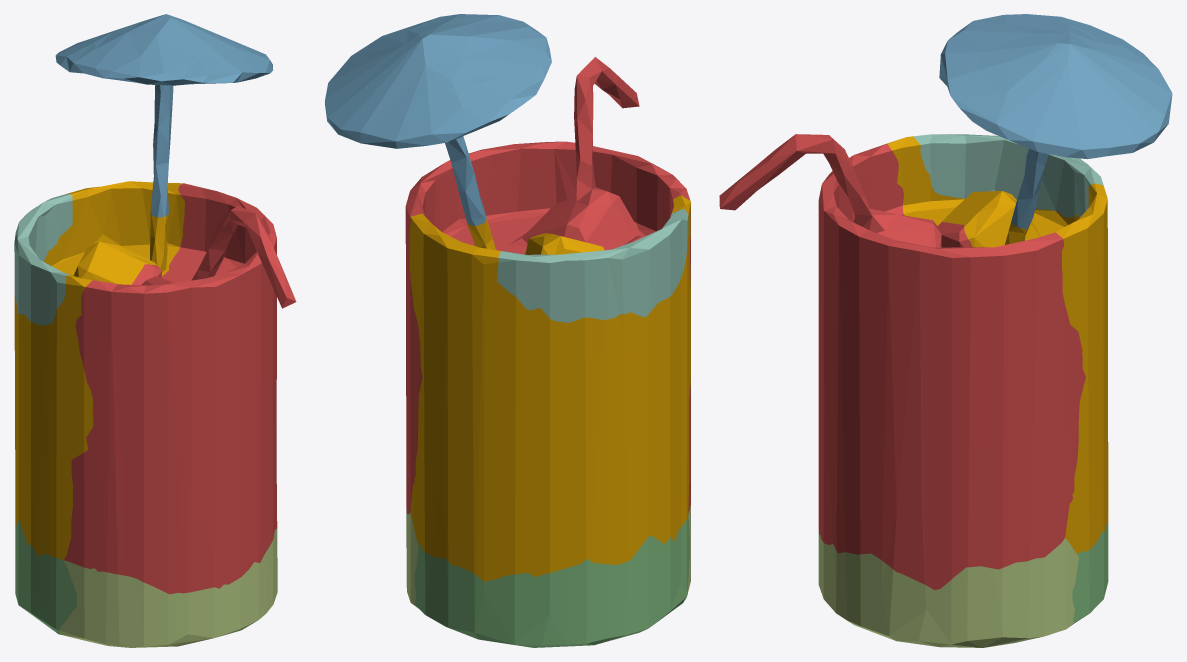
The model's file is fractured_3_6pcs.glb.
3 renders of one model, left to right at view 1: azimuth 30°, elevation 25°; view 2: azimuth 150°, elevation 25°; view 3: azimuth 270°, elevation 25°, orthographic. The views are drawn at different scales.
Parts seen in each view (by area): view 1: piece_1.obj, piece_0.obj, piece_5.obj, piece_2.obj, piece_4.obj, piece_3.obj; view 2: piece_0.obj, piece_1.obj, piece_2.obj, piece_3.obj, piece_4.obj, piece_5.obj; view 3: piece_1.obj, piece_2.obj, piece_0.obj, piece_5.obj, piece_4.obj, piece_3.obj.
Boxes of the visible parts, left/top/right/bottom form: piece_1.obj: left=64, top=183, right=296, bottom=594; piece_0.obj: left=14, top=181, right=184, bottom=559; piece_5.obj: left=59, top=528, right=277, bottom=647; piece_2.obj: left=55, top=14, right=272, bottom=217; piece_4.obj: left=14, top=194, right=72, bottom=325; piece_3.obj: left=15, top=520, right=76, bottom=634; piece_0.obj: left=410, top=195, right=690, bottom=581; piece_1.obj: left=405, top=57, right=690, bottom=513; piece_2.obj: left=325, top=14, right=551, bottom=226; piece_3.obj: left=414, top=515, right=689, bottom=647; piece_4.obj: left=497, top=209, right=688, bottom=322; piece_5.obj: left=406, top=505, right=690, bottom=608; piece_1.obj: left=719, top=134, right=1085, bottom=589; piece_2.obj: left=939, top=14, right=1172, bottom=229; piece_0.obj: left=886, top=136, right=1108, bottom=553; piece_5.obj: left=818, top=530, right=1079, bottom=647; piece_4.obj: left=913, top=134, right=1103, bottom=217; piece_3.obj: left=1072, top=521, right=1108, bottom=624.
Bounding box in the file's own units: 0.5255 × 1 × 0.7037.
